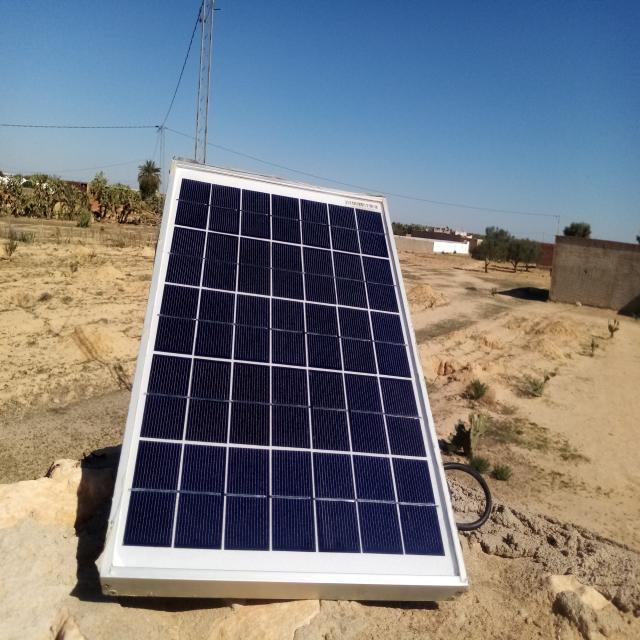Normal Solar Panel: (103, 160, 465, 585)
